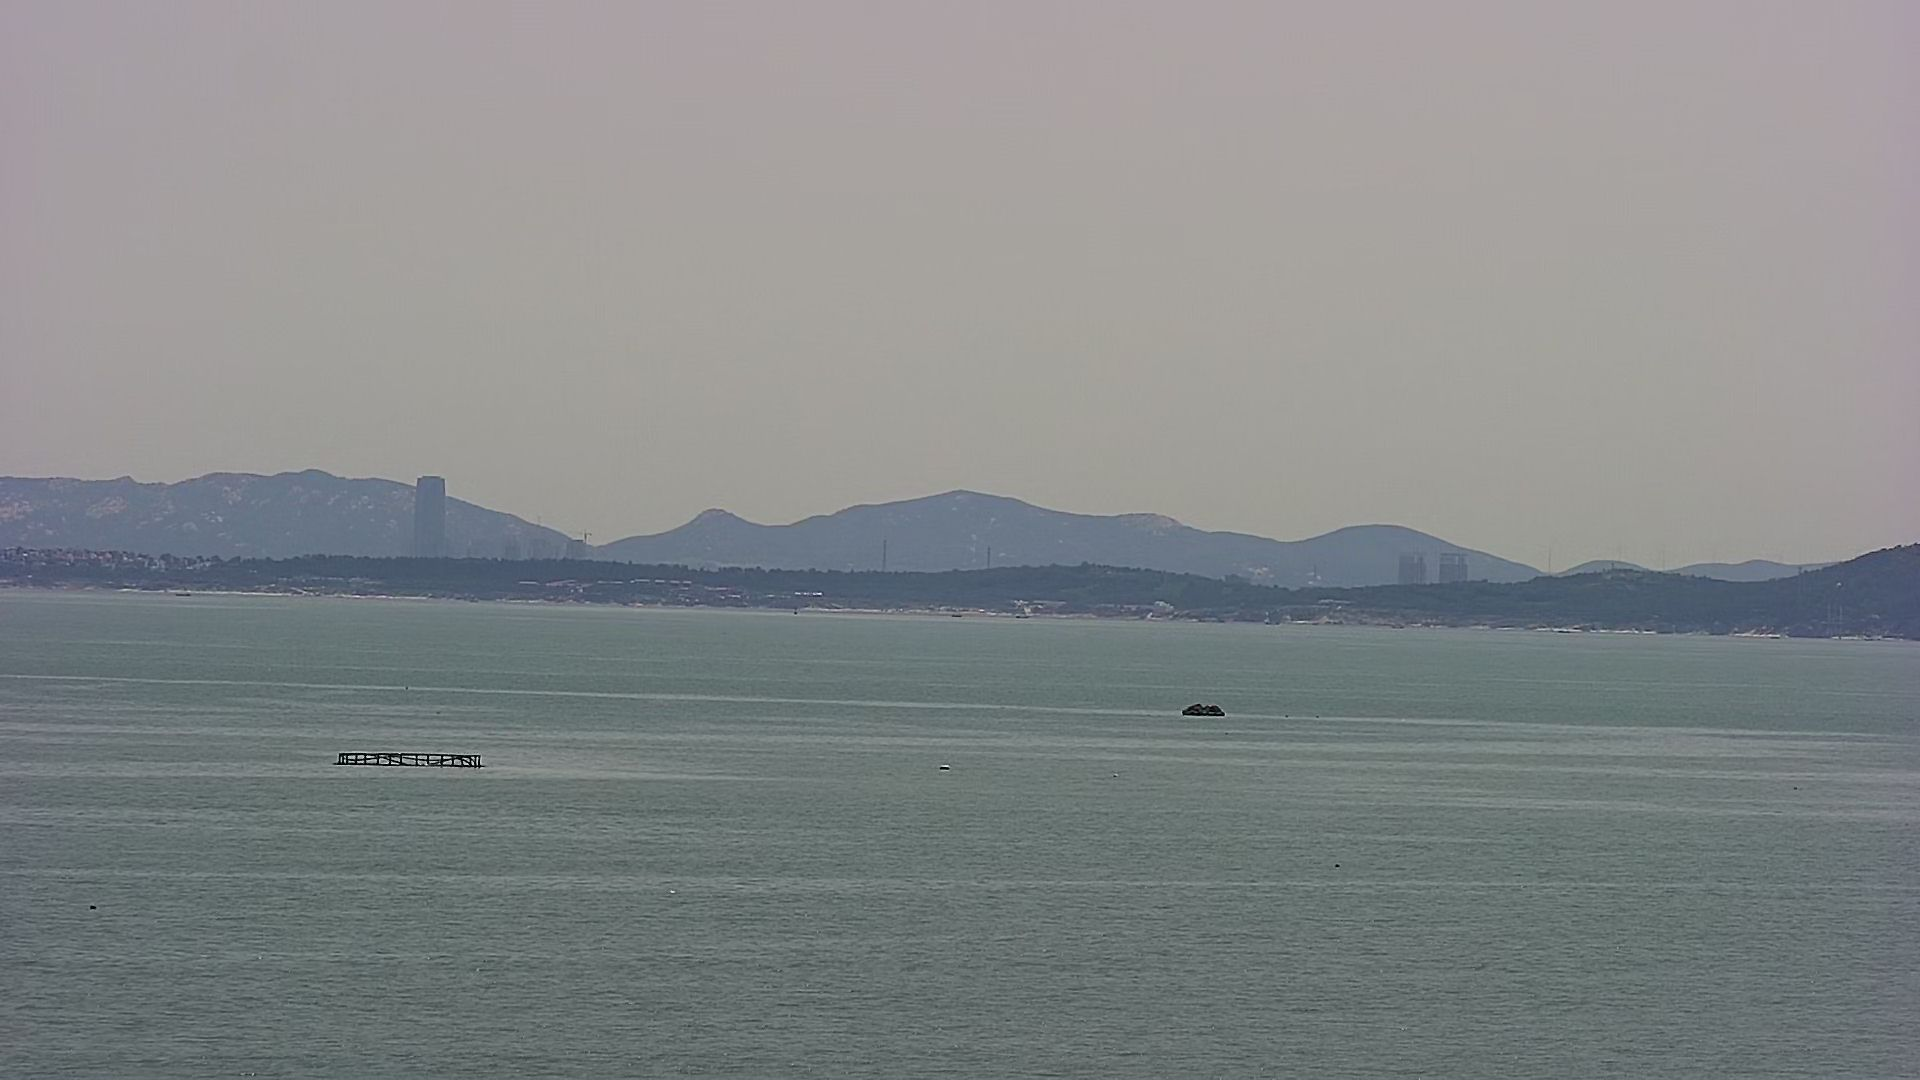platform: (336, 750, 489, 767)
rubbish: (1175, 700, 1230, 719)
